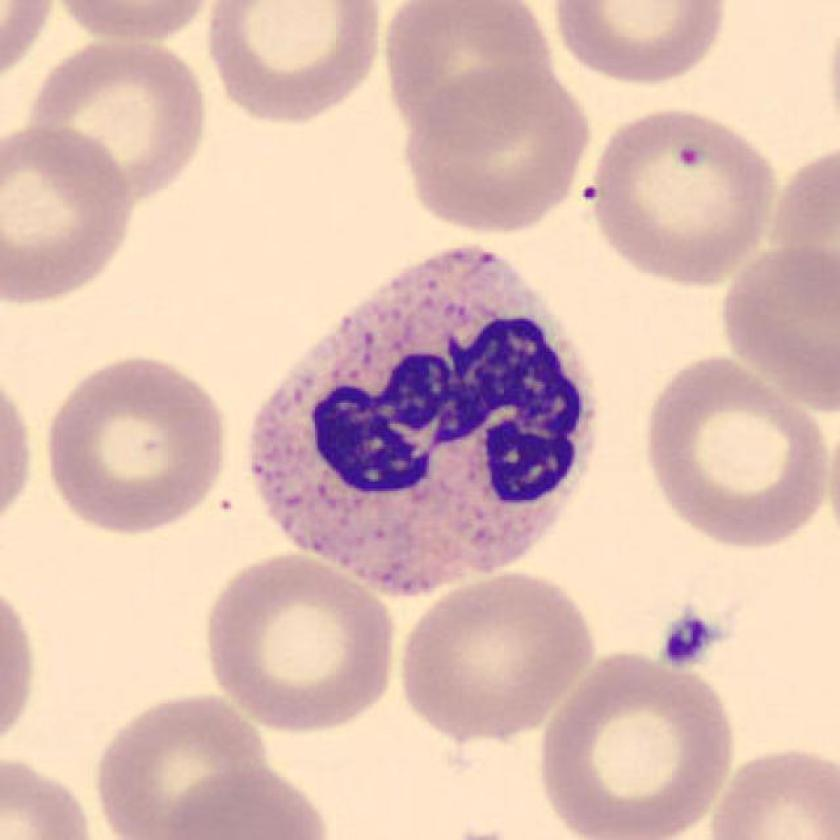neutrophil: (251, 250, 592, 589)
